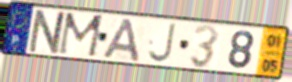3: (188, 23, 223, 70)
8: (227, 29, 256, 70)
A: (101, 17, 142, 63)
J: (146, 21, 177, 64)
M: (55, 11, 107, 60)
N: (26, 8, 71, 56)
